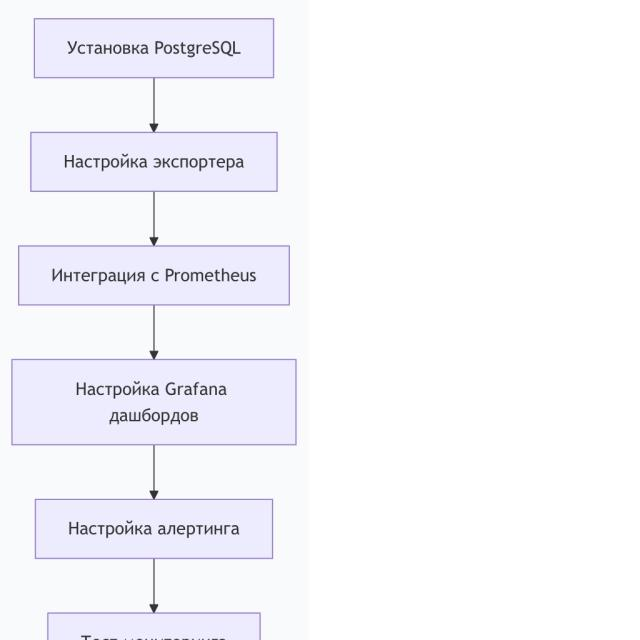arrow: (150, 305, 158, 359), (150, 445, 158, 499), (150, 559, 158, 613), (150, 192, 158, 245), (150, 79, 158, 132)
rectangle: (12, 359, 296, 445), (19, 245, 289, 305), (31, 131, 277, 191), (35, 499, 273, 559), (34, 19, 274, 78)
